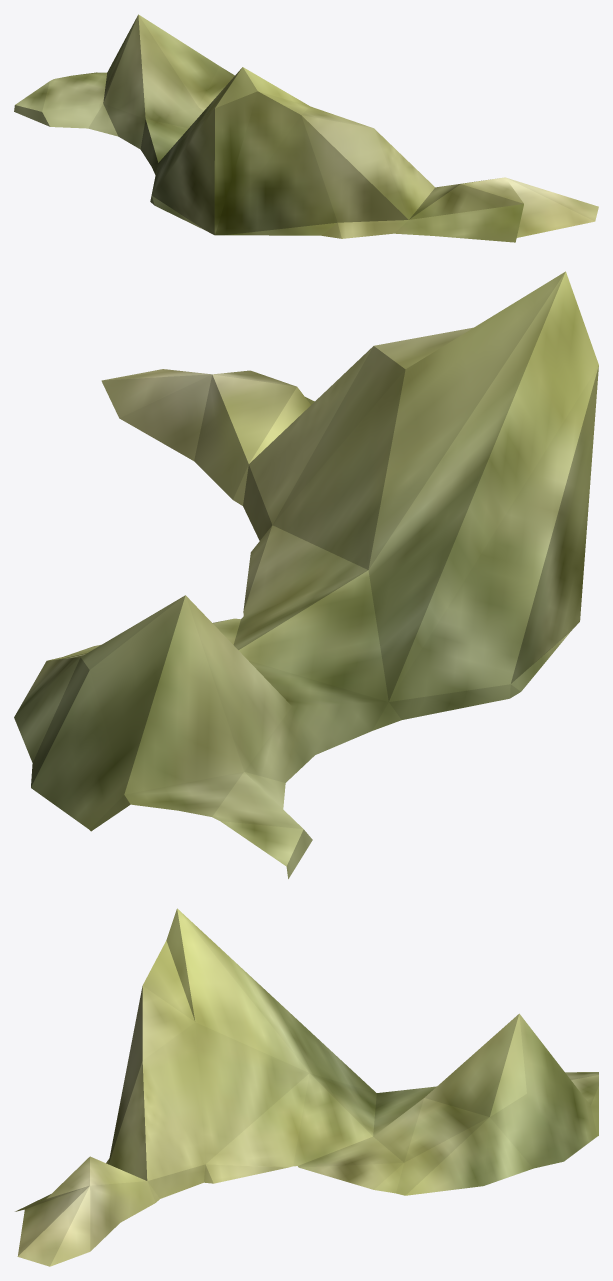
3 views of the same model, one above another, from view 1: azimuth 30°, elevation 25°; view 2: azimuth 150°, elevation 25°; view 3: azimuth 270°, elevation 25° (orthographic). The views are drawn at different scales.
Bounding box in the file's own units: 1.2 × 0.5773 × 1.58.
Materials: 1 (1 with a texture image).
